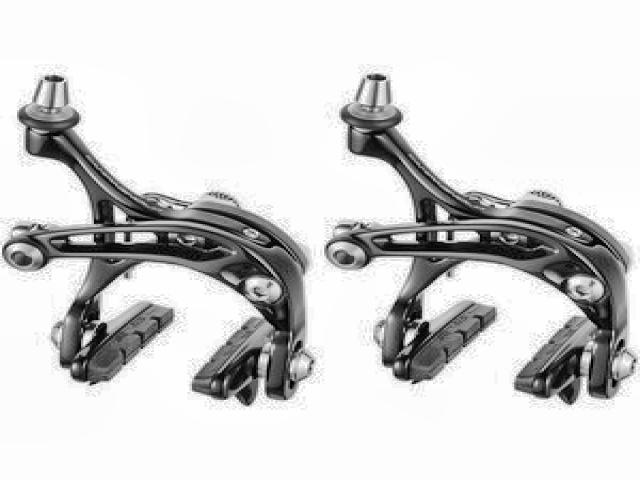rim_brake: (320, 71, 638, 410), (2, 72, 315, 406)
